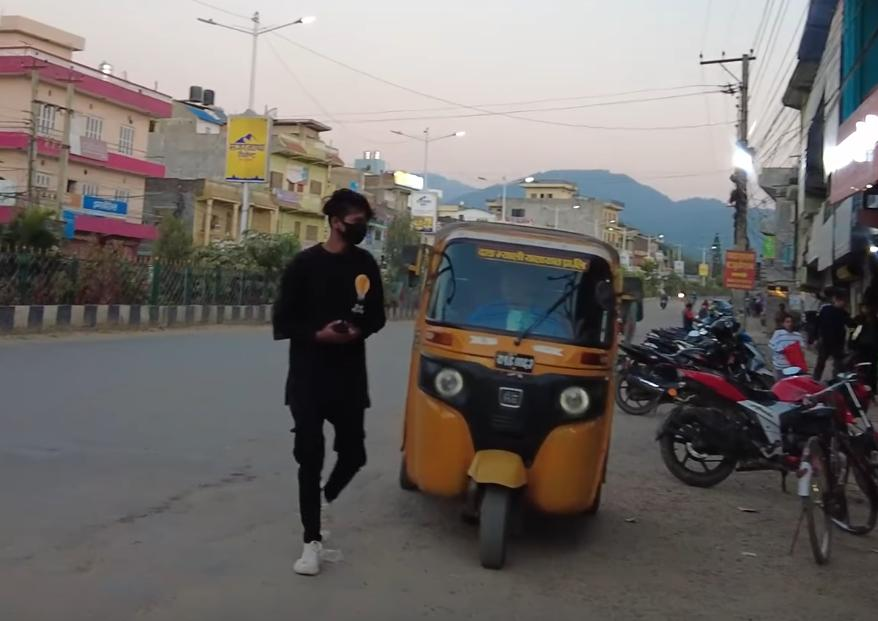auto_rickshaw: (397, 212, 644, 584)
bike: (659, 359, 878, 492)
